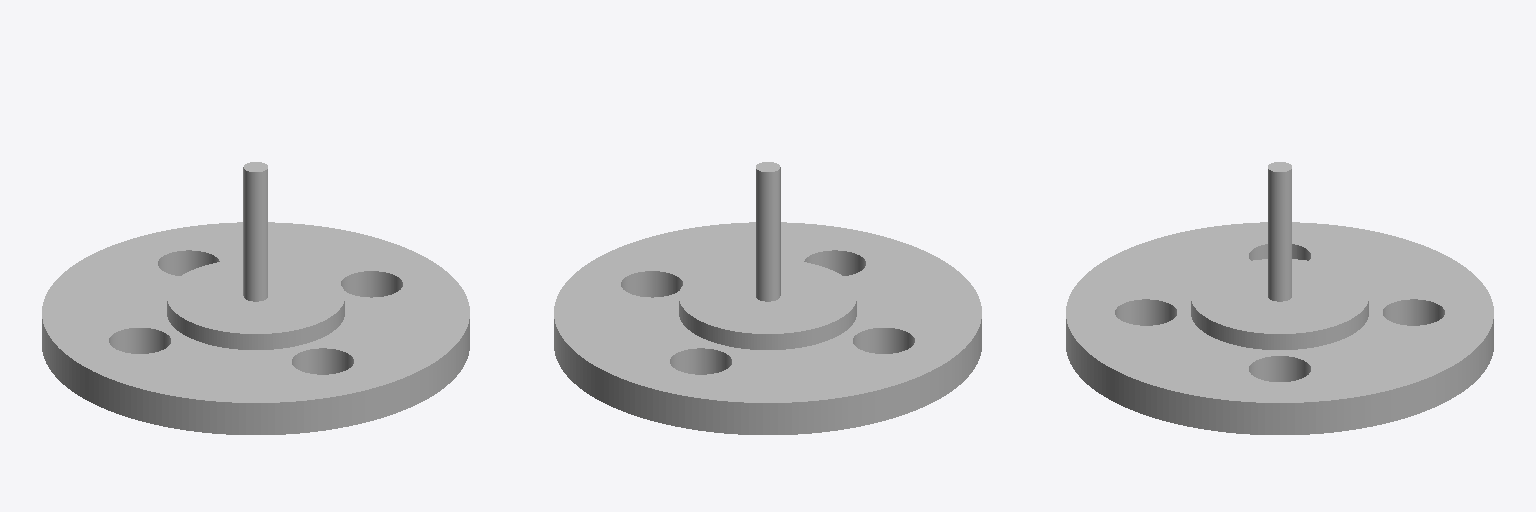
Rendered from rueda_eje_motor_pequeño.obj.
3 renders of one model, left to right at view 1: azimuth 30°, elevation 25°; view 2: azimuth 150°, elevation 25°; view 3: azimuth 270°, elevation 25°, orthographic.
Parts seen in each view (by area): view 1: Cut_Extrude1; view 2: Cut_Extrude1; view 3: Cut_Extrude1.
Boxes of the visible parts, box(x1,y1,x2,y2) form: Cut_Extrude1: box(42, 162, 469, 434); Cut_Extrude1: box(554, 162, 981, 434); Cut_Extrude1: box(1066, 162, 1493, 434).
Size of the model in its own units: 9.45 by 4.33 by 9.45.